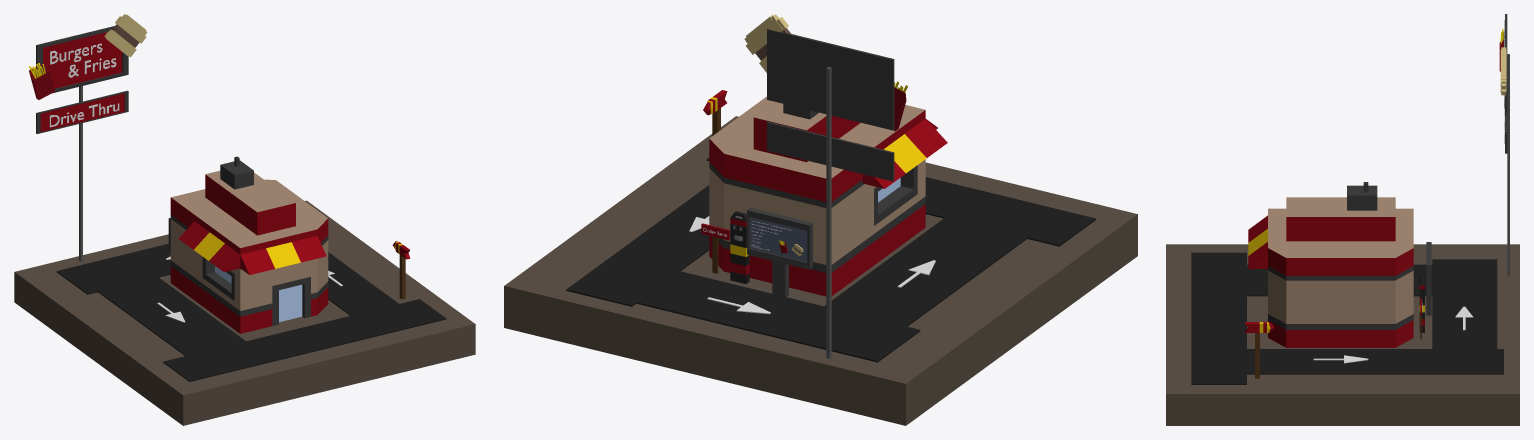
File: restaurant-0.glb
The picture shows the model from 3 angles, left to right: view 1: azimuth 30°, elevation 25°; view 2: azimuth 150°, elevation 25°; view 3: azimuth 270°, elevation 25°; orthographic projection. The views are drawn at different scales.
Visible parts, largest first — view 1: Grid.101; view 2: Grid.101; view 3: Grid.101.
Boxes of the visible parts, box(x1,y1,x2,y2) form: Grid.101: box(14, 14, 475, 425); Grid.101: box(504, 14, 1137, 425); Grid.101: box(1166, 14, 1519, 425).
Bounding box in the file's own units: 1 × 0.8766 × 1.
